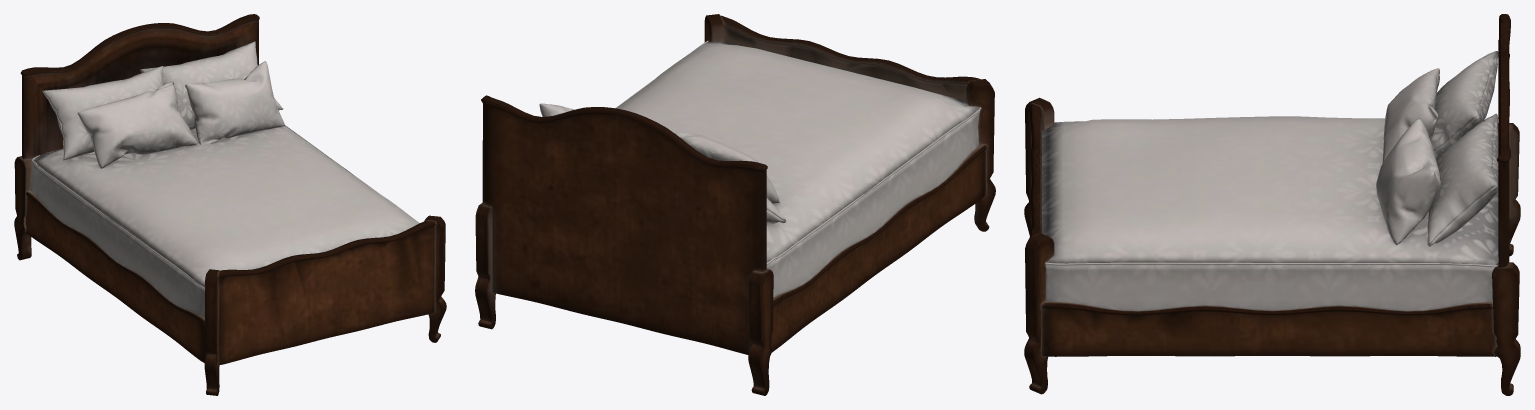
The model's file is bed.glb.
The picture shows the model from 3 angles, left to right: view 1: azimuth 30°, elevation 25°; view 2: azimuth 150°, elevation 25°; view 3: azimuth 270°, elevation 25°; orthographic projection. The views are drawn at different scales.
Visible parts, largest first — view 1: victorian_bed_wood_bed_wood_material_0, victorian_bed_mattres_bed_mattres_material_0, pollows_bed_pillow_material_0; view 2: victorian_bed_wood_bed_wood_material_0, victorian_bed_mattres_bed_mattres_material_0, pollows_bed_pillow_material_0; view 3: victorian_bed_mattres_bed_mattres_material_0, victorian_bed_wood_bed_wood_material_0, pollows_bed_pillow_material_0.
Part boxes in pixels (x1,y1,x2,y2): victorian_bed_wood_bed_wood_material_0: [14, 14, 446, 395]; victorian_bed_mattres_bed_mattres_material_0: [30, 125, 419, 317]; pollows_bed_pillow_material_0: [42, 41, 284, 168]; victorian_bed_wood_bed_wood_material_0: [475, 14, 995, 395]; victorian_bed_mattres_bed_mattres_material_0: [615, 40, 981, 297]; pollows_bed_pillow_material_0: [539, 103, 785, 223]; victorian_bed_mattres_bed_mattres_material_0: [1042, 116, 1498, 311]; victorian_bed_wood_bed_wood_material_0: [1024, 14, 1520, 395]; pollows_bed_pillow_material_0: [1376, 51, 1498, 246].
Size of the model in its own units: 2.13 by 1.73 by 3.01.
Materials: 3 (3 with a texture image).
